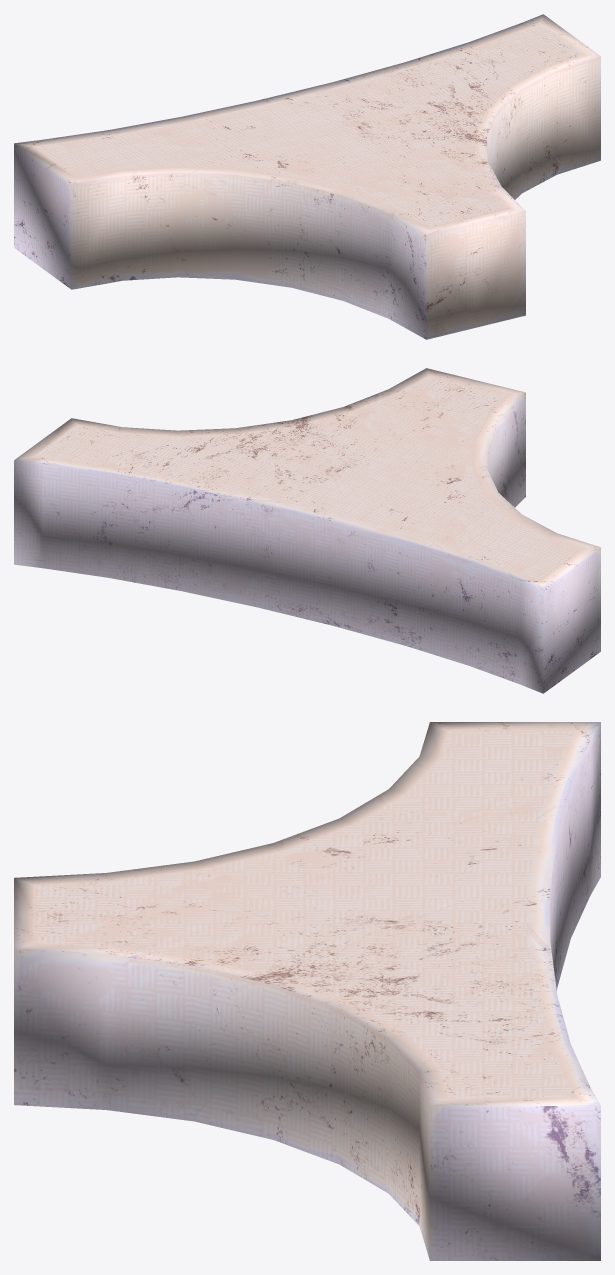
File: Bench.fbx
3 renders of one model, top to bottom at view 1: azimuth 30°, elevation 25°; view 2: azimuth 150°, elevation 25°; view 3: azimuth 270°, elevation 25°, orthographic. The views are drawn at different scales.
Parts seen in each view (by area): view 1: Bench_low; view 2: Bench_low; view 3: Bench_low.
Boxes of the visible parts, x1,y1,x2,y2 form: Bench_low: [14, 14, 600, 339]; Bench_low: [14, 368, 600, 693]; Bench_low: [14, 722, 600, 1260].
Size of the model in its own units: 565 by 107 by 365.
Materials: 1 (1 with a texture image).
